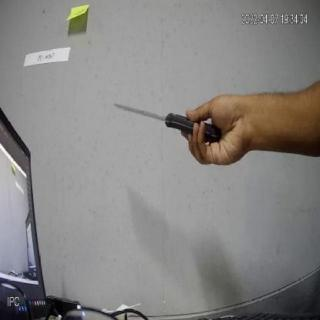knife: (112, 92, 226, 144)
